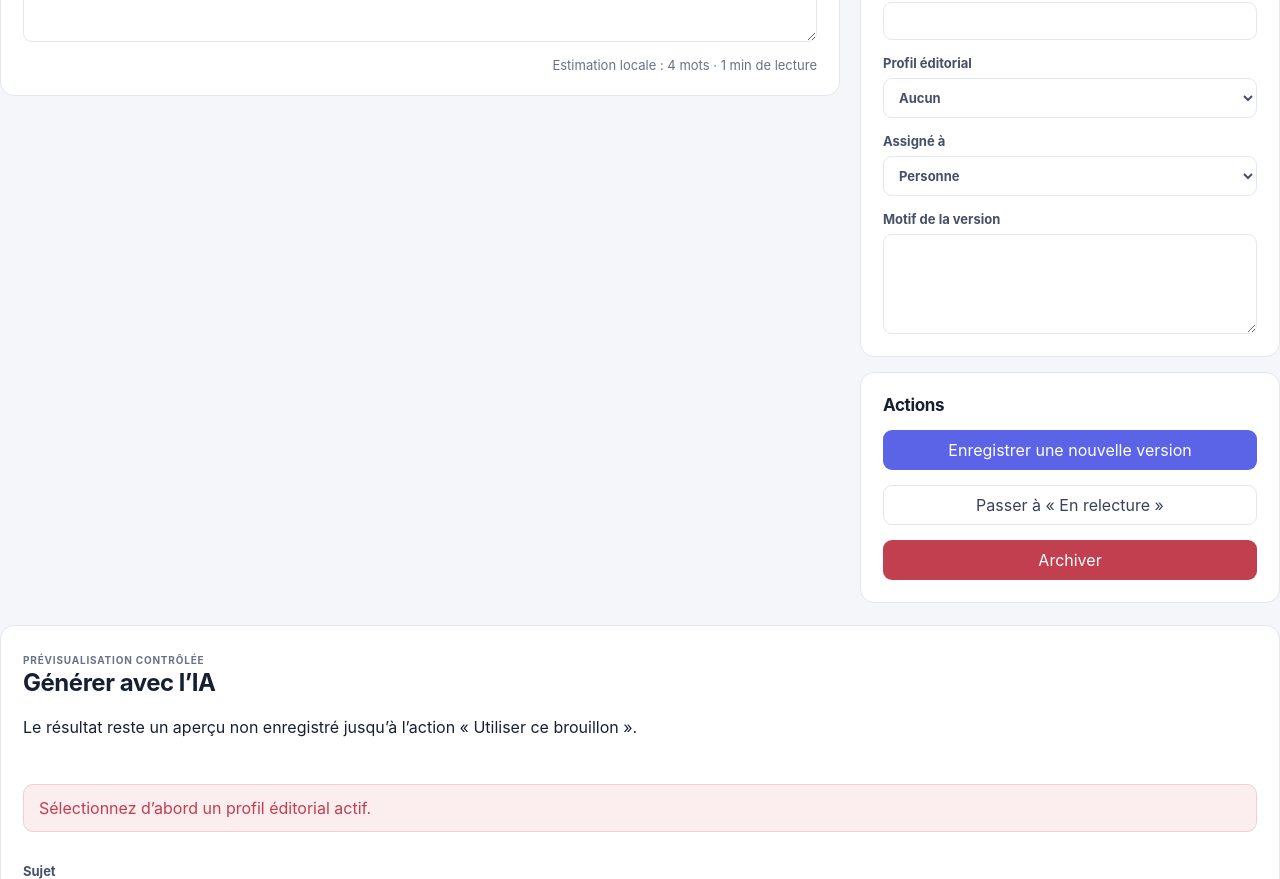
Test: Interface de contenu Phase 3A › sends expectedVersion and displays a safe stale-update recovery
The image size is (1280, 879).
(page scrolled)
Click the button "Enregistrer une nouvelle version".
click(1070, 450)  # box [883,430,1257,470]
(page scrolled)
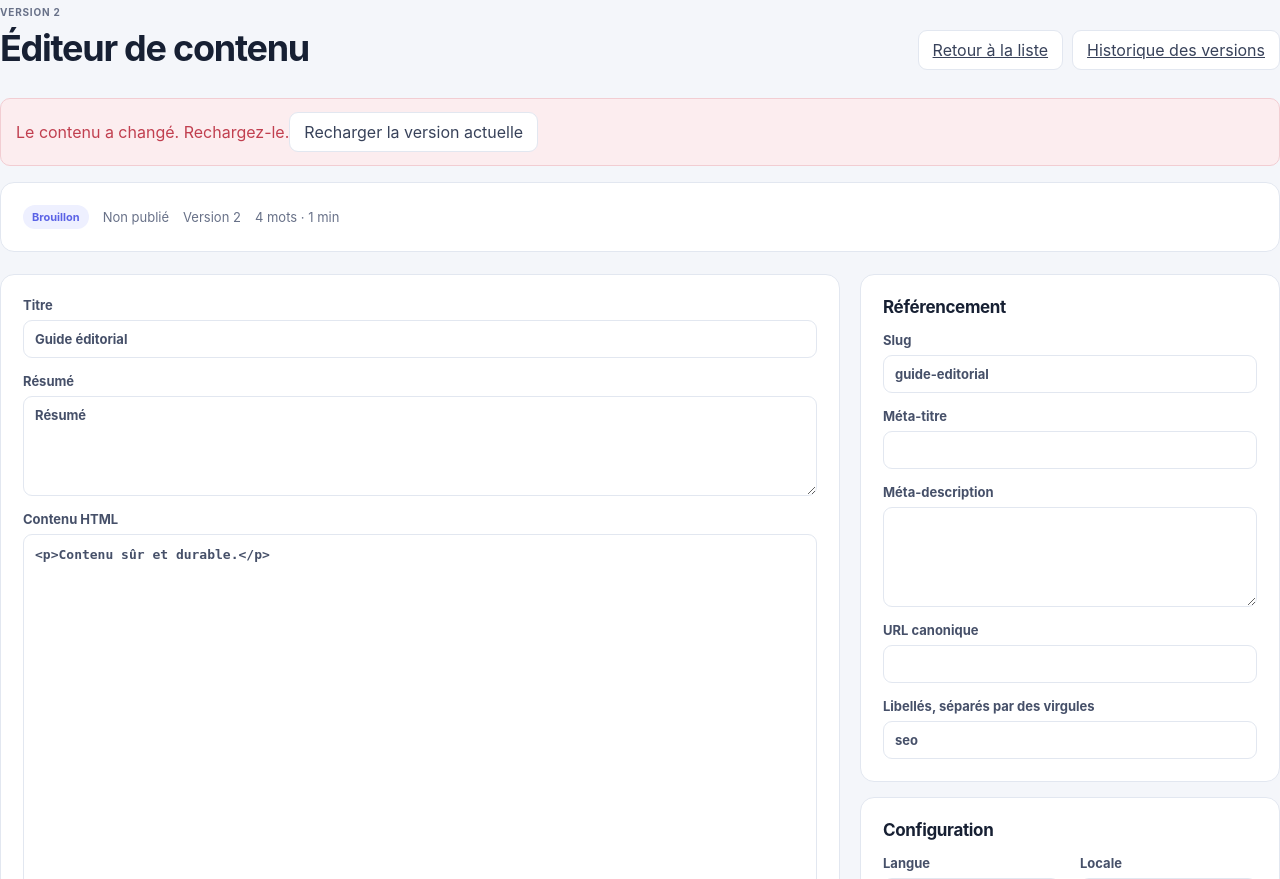
Expected: the message shows "Le contenu a changé. Rechargez-le.", [16,122,289,142]
Expected: the button "Recharger la version actuelle" is shown, [289,112,538,152]
